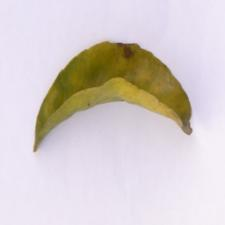Black: (105, 35, 162, 71)
